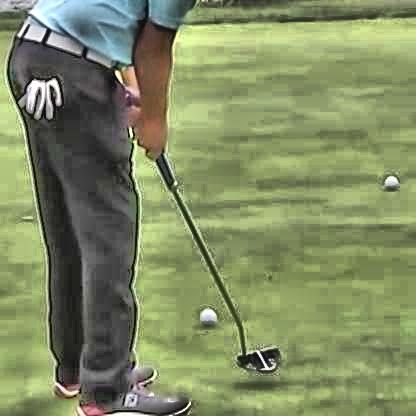golfball: (197, 303, 216, 325)
